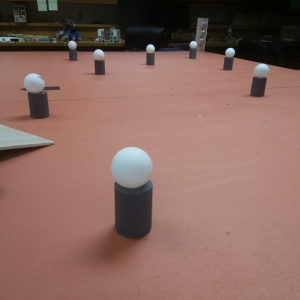corner: (196, 16, 207, 52)
obstacle: (112, 145, 154, 240), (24, 72, 51, 119), (252, 63, 269, 98), (223, 44, 236, 71), (94, 50, 106, 76), (145, 44, 157, 69), (67, 40, 78, 60), (189, 40, 198, 59)
start: (22, 85, 61, 92)
